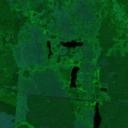alloviz: (91, 100, 103, 128), (69, 65, 80, 88), (59, 39, 84, 48), (45, 39, 54, 59)
